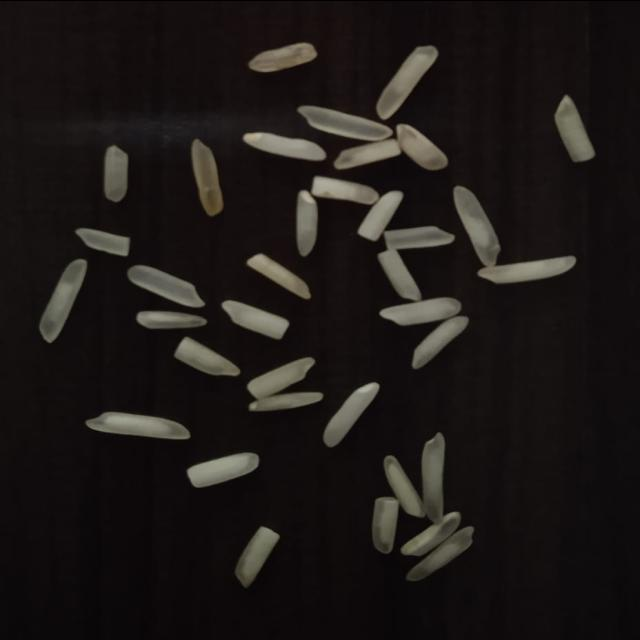Broken: (246, 253, 312, 300), (247, 356, 316, 398), (234, 524, 280, 587), (186, 450, 260, 488), (220, 299, 290, 339), (172, 336, 240, 376), (555, 94, 595, 162), (396, 123, 448, 170), (357, 190, 403, 240), (378, 250, 422, 302), (249, 42, 319, 72), (333, 138, 402, 168), (311, 174, 378, 202), (383, 225, 454, 250), (371, 496, 399, 554), (76, 228, 132, 255), (104, 144, 130, 201), (136, 309, 208, 328)
Full: (376, 45, 438, 119), (39, 258, 89, 342), (454, 183, 502, 264), (405, 526, 473, 582), (324, 382, 380, 446), (296, 105, 394, 141), (127, 265, 207, 308), (84, 410, 190, 438), (411, 316, 468, 368), (478, 255, 578, 283), (400, 510, 462, 555), (382, 455, 422, 519), (192, 138, 224, 216), (242, 131, 327, 160), (379, 297, 462, 326), (421, 430, 445, 520), (247, 391, 323, 412), (297, 189, 318, 257)
